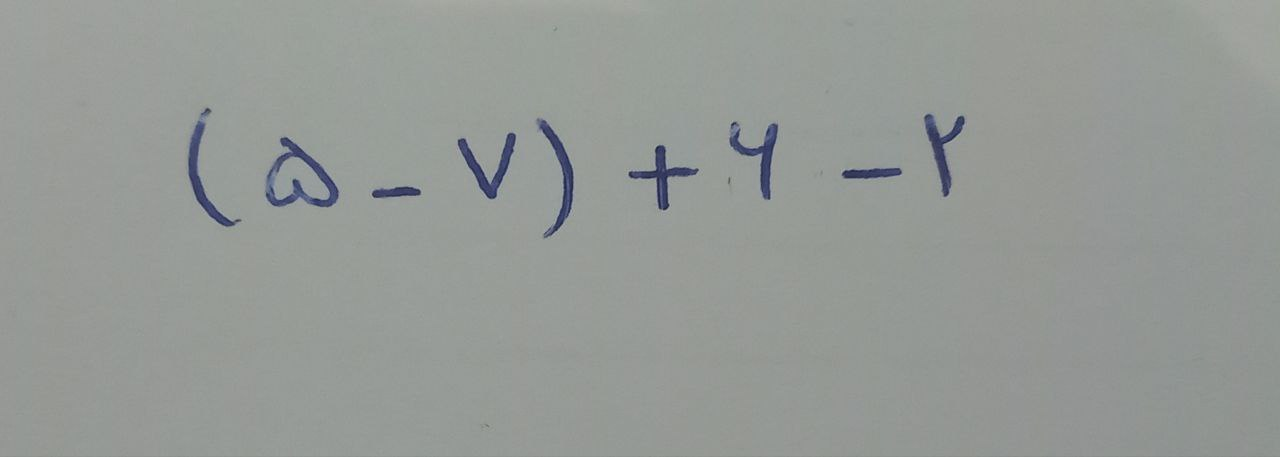character: (189, 108, 249, 227), (265, 135, 342, 206), (627, 144, 700, 210), (536, 117, 571, 246), (729, 120, 781, 201), (457, 133, 519, 197), (921, 113, 968, 196), (840, 166, 907, 182), (370, 182, 424, 200)
